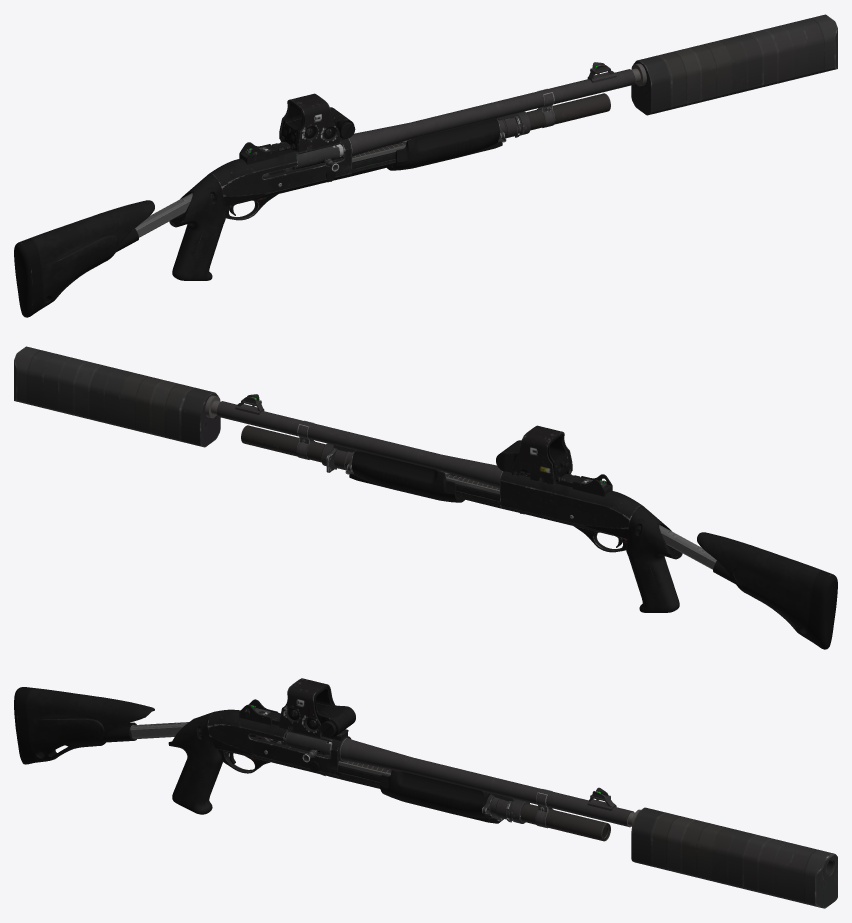
The model's file is benelli_m3.200828e63e.glb.
3 views of the same model, one above another, from view 1: azimuth 30°, elevation 25°; view 2: azimuth 150°, elevation 25°; view 3: azimuth 330°, elevation 25° (orthographic).
Visible parts, largest first — view 1: base, silencer, base_2, forend, sight, forend_2; view 2: base, silencer, base_2, forend, sight; view 3: base, silencer, base_2, forend, sight, forend_2.
Boxes of the visible parts, bbox=[...] form: base: bbox=[14, 88, 555, 317]; silencer: bbox=[631, 14, 837, 115]; base_2: bbox=[266, 62, 634, 186]; forend: bbox=[387, 118, 507, 170]; sight: bbox=[279, 93, 355, 152]; forend_2: bbox=[283, 139, 410, 171]; base: bbox=[296, 420, 837, 649]; silencer: bbox=[14, 346, 220, 447]; base_2: bbox=[217, 394, 573, 518]; forend: bbox=[344, 450, 464, 502]; sight: bbox=[496, 425, 572, 484]; base: bbox=[14, 687, 553, 828]; silencer: bbox=[627, 807, 837, 908]; base_2: bbox=[264, 732, 633, 841]; forend: bbox=[380, 770, 503, 823]; sight: bbox=[279, 678, 355, 738]; forend_2: bbox=[281, 732, 390, 776].
Size of the model in its own units: 1.53 by 0.2731 by 0.0842.
3 materials, 3 textured.
